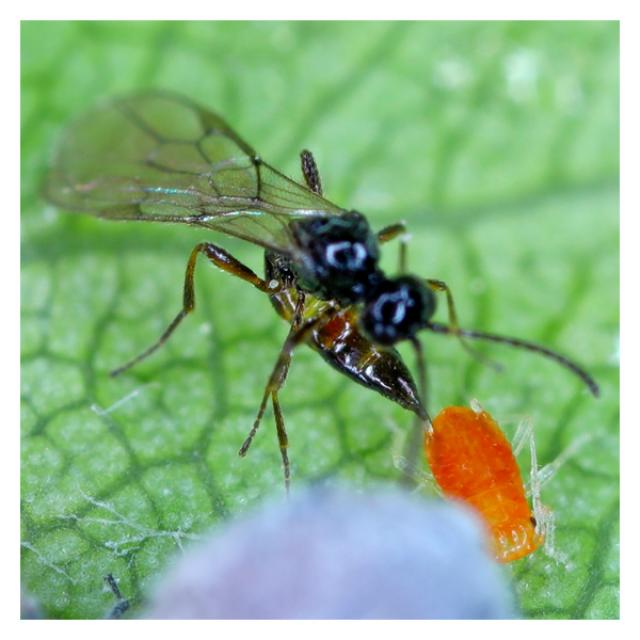Aphid-Grown-: (381, 400, 583, 567)
Aphid-Grown-have wings-: (45, 74, 478, 436)
